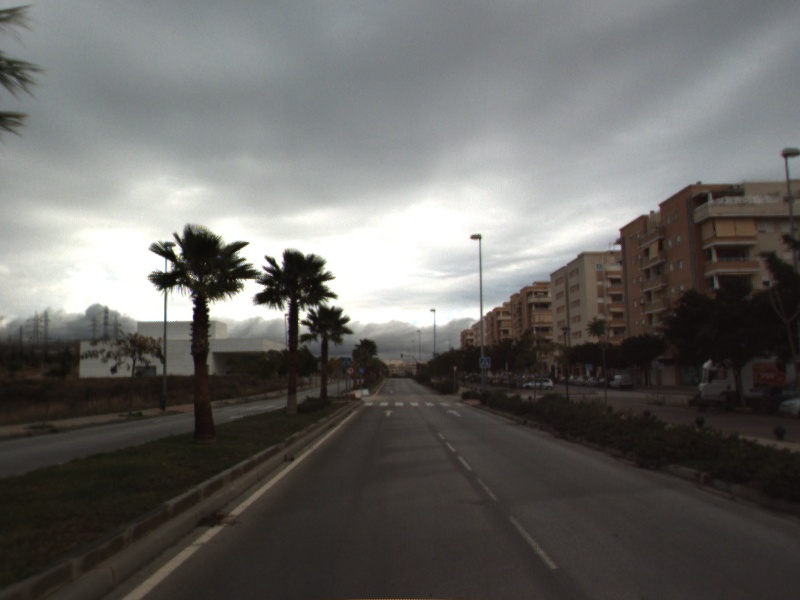STRAIGHT: (445, 407, 463, 418), (381, 407, 396, 418)
